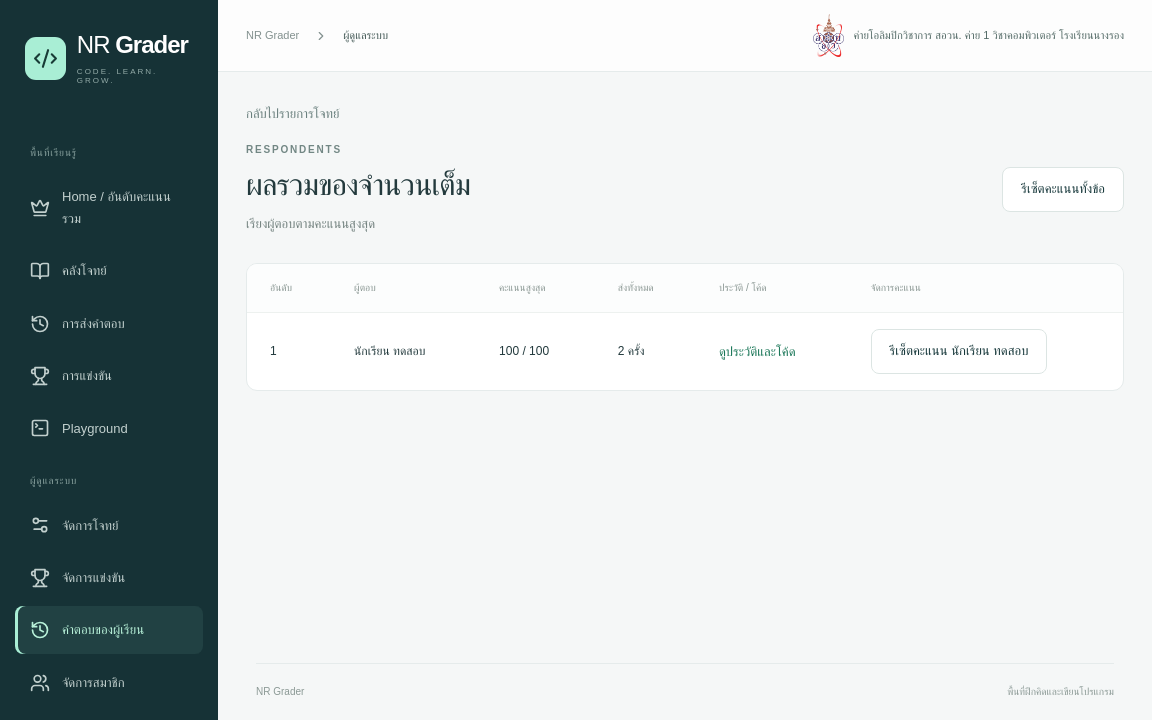
NR Grader user workflows › opens a respondents history and source code for admins
The width and height of the screenshot is (1152, 720).
Click the link "ดูประวัติและโค้ด" at (757, 352), box left=719, top=341, right=796, bottom=362
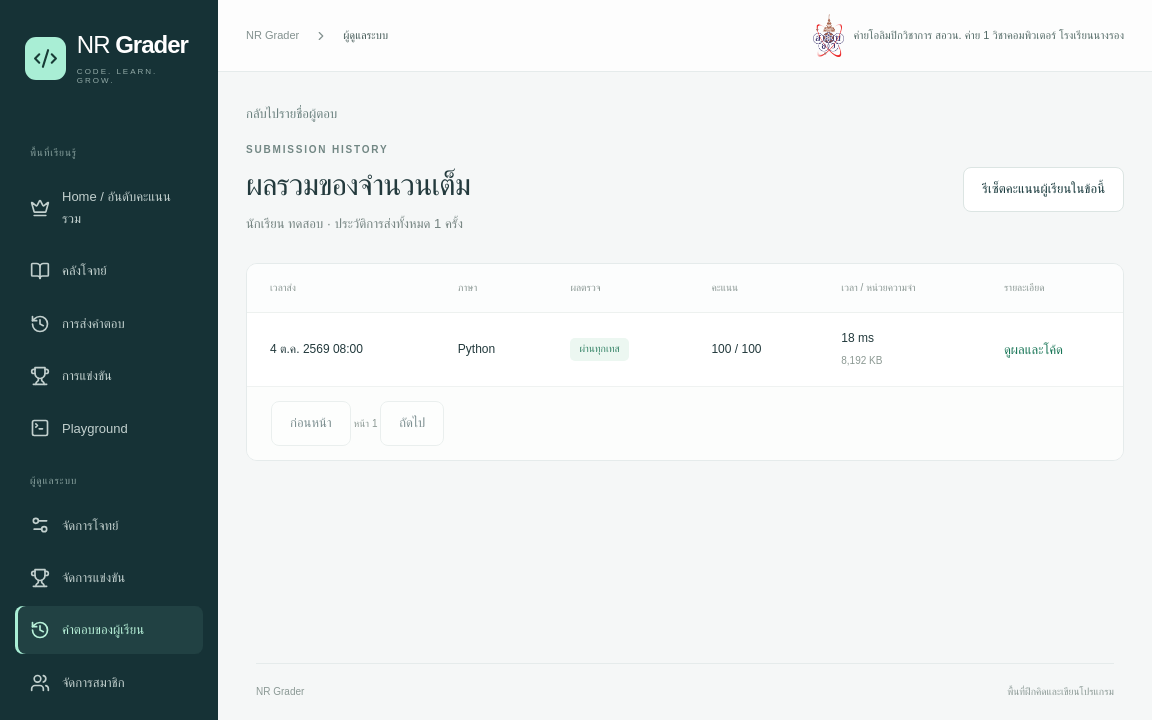
Click the link "ดูผลและโค้ด" at (1034, 349), box left=1004, top=339, right=1063, bottom=360
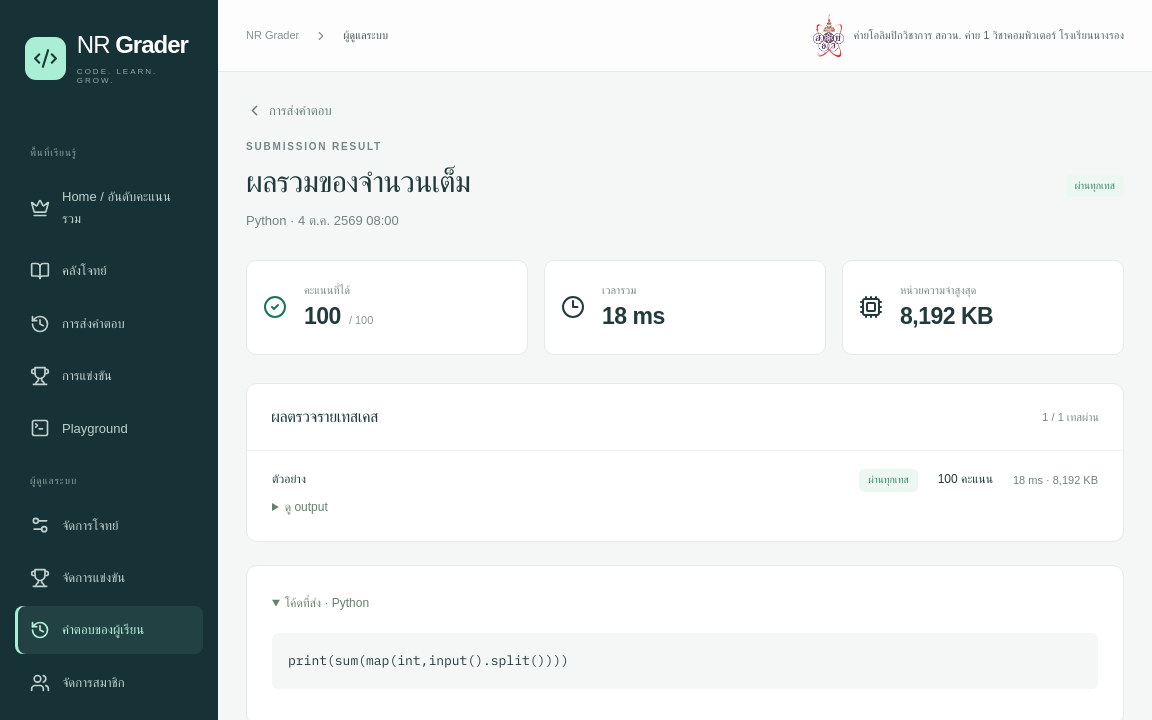
Expected: the text "print(sum(map(int,input().split())))" is shown, left=272, top=633, right=1098, bottom=688
